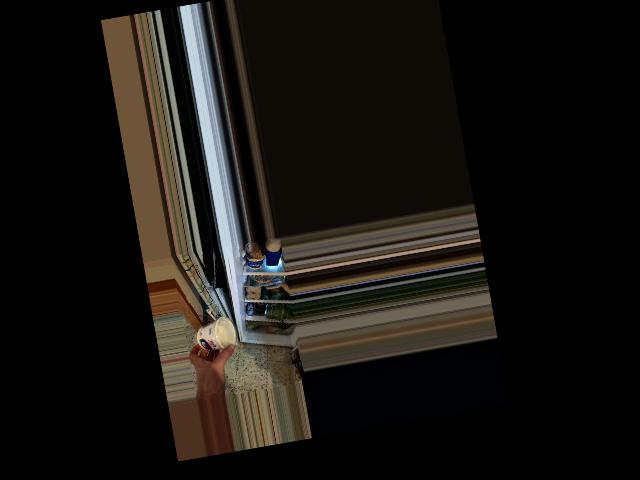cotage: (191, 316, 238, 356)
